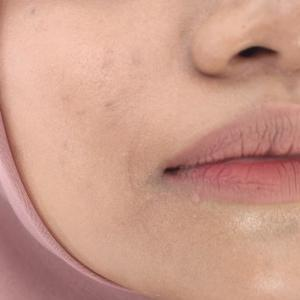Oily-Skin: (126, 200, 300, 300)
